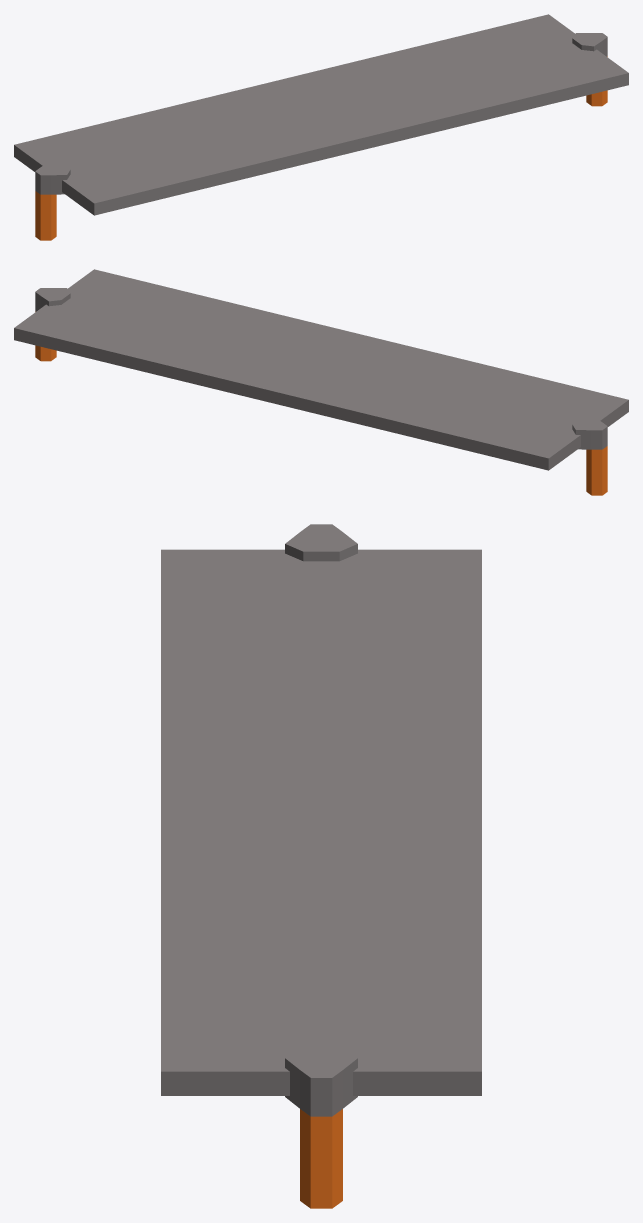
Rendered from scifi-scifi-hydroponic-shelf-top.glb.
3 views of the same model, one above another, from view 1: azimuth 30°, elevation 25°; view 2: azimuth 150°, elevation 25°; view 3: azimuth 270°, elevation 25° (orthographic). The views are drawn at different scales.
Visible parts, largest first — view 1: scifi-hydroponic-shelf-top; view 2: scifi-hydroponic-shelf-top; view 3: scifi-hydroponic-shelf-top.
Part boxes in pixels (x1,y1,x2,y2): scifi-hydroponic-shelf-top: (14,14,628,240); scifi-hydroponic-shelf-top: (14,269,628,495); scifi-hydroponic-shelf-top: (161,524,481,1208).
Size of the model in its own units: 2.45 by 0.27 by 0.6.
